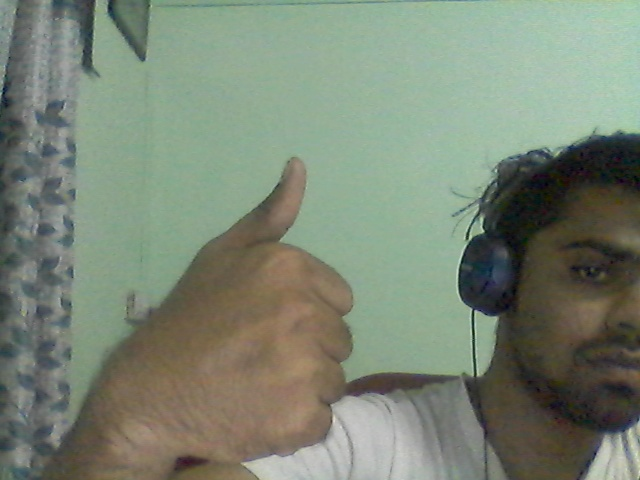Yes: (93, 134, 423, 467)
